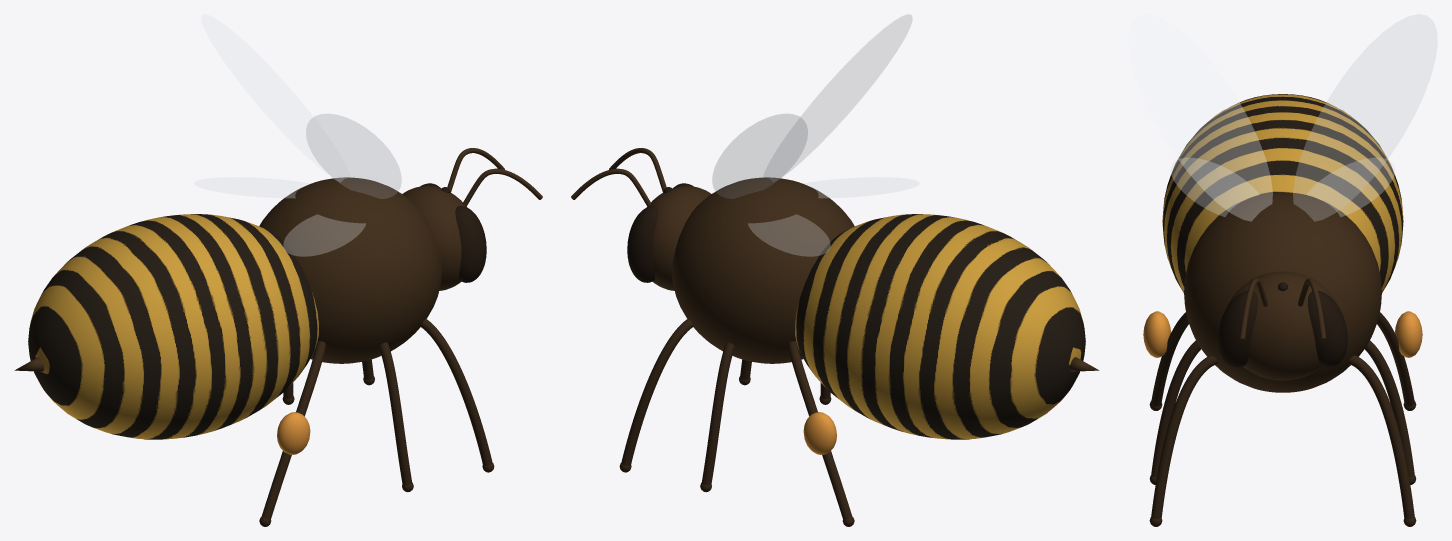
Rendered from bee-hero-cerana-low.glb.
3 views of the same model, side by side, from view 1: azimuth 30°, elevation 25°; view 2: azimuth 150°, elevation 25°; view 3: azimuth 270°, elevation 25° (orthographic). The views are drawn at different scales.
Visible parts, largest first — view 1: abdomen, thorax, foreWingL, foreWingR, head, hindWingR, compoundEyeR, hindWingL, foreLegR, midLegR, hindLegR, pollen_R; view 2: abdomen, thorax, foreWingR, foreWingL, head, hindWingL, compoundEyeL, hindWingR, foreLegL, midLegL, hindLegL, pollen_L; view 3: abdomen, thorax, foreWingL, foreWingR, head, hindWingL, hindWingR, compoundEyeL, compoundEyeR, foreLegL, foreLegR, midLegL (+7 smaller).
Boxes of the visible parts, <box> form: abdomen: <box>28,214,318,439</box>; thorax: <box>259,177,441,363</box>; foreWingL: <box>201,14,350,182</box>; foreWingR: <box>306,114,401,198</box>; head: <box>402,186,466,290</box>; hindWingR: <box>283,214,365,256</box>; compoundEyeR: <box>455,206,486,282</box>; hindWingL: <box>194,177,309,197</box>; foreLegR: <box>420,319,492,465</box>; midLegR: <box>379,342,412,485</box>; hindLegR: <box>261,341,326,519</box>; pollen_R: <box>277,412,310,454</box>; abdomen: <box>795,214,1085,439</box>; thorax: <box>672,177,854,363</box>; foreWingR: <box>763,14,912,182</box>; foreWingL: <box>712,114,807,198</box>; head: <box>647,186,711,290</box>; hindWingL: <box>748,214,830,256</box>; compoundEyeL: <box>627,206,658,282</box>; hindWingR: <box>804,177,919,197</box>; foreLegL: <box>621,319,693,465</box>; midLegL: <box>701,342,734,485</box>; hindLegL: <box>787,341,852,519</box>; pollen_L: <box>803,412,836,454</box>; abdomen: <box>1162,94,1403,292</box>; thorax: <box>1184,192,1381,392</box>; foreWingL: <box>1293,14,1437,221</box>; foreWingR: <box>1128,14,1272,221</box>; head: <box>1227,271,1338,380</box>; hindWingL: <box>1307,158,1395,216</box>; hindWingR: <box>1170,158,1258,216</box>; compoundEyeL: <box>1307,290,1347,367</box>; compoundEyeR: <box>1218,290,1258,367</box>; foreLegL: <box>1347,355,1414,518</box>; foreLegR: <box>1151,355,1218,518</box>; midLegL: <box>1365,340,1414,477</box>.
Bounding box in the file's own units: 1.18 × 0.8929 × 0.5854.
Materials: 6 (1 with a texture image).
